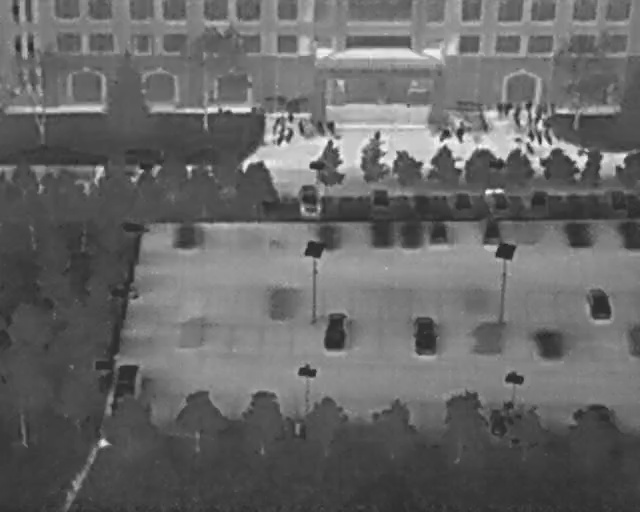Bicycle: (267, 114, 283, 136), (541, 126, 557, 147), (293, 116, 308, 137), (435, 126, 452, 144), (314, 119, 329, 139), (324, 117, 338, 138), (274, 128, 287, 148), (513, 103, 523, 129), (500, 99, 513, 118), (523, 141, 537, 157), (524, 101, 534, 123), (533, 102, 543, 124), (454, 127, 465, 143), (276, 114, 287, 129), (535, 129, 544, 146), (285, 127, 294, 143), (495, 101, 503, 119), (527, 127, 535, 142), (286, 109, 294, 122)
Car: (111, 360, 142, 412), (584, 284, 614, 324), (323, 310, 349, 352), (412, 314, 438, 356), (297, 183, 320, 221), (526, 187, 550, 221), (483, 184, 508, 215), (370, 186, 391, 218), (608, 186, 629, 217), (453, 190, 475, 215), (481, 219, 501, 245), (428, 218, 448, 244), (412, 194, 430, 217)
